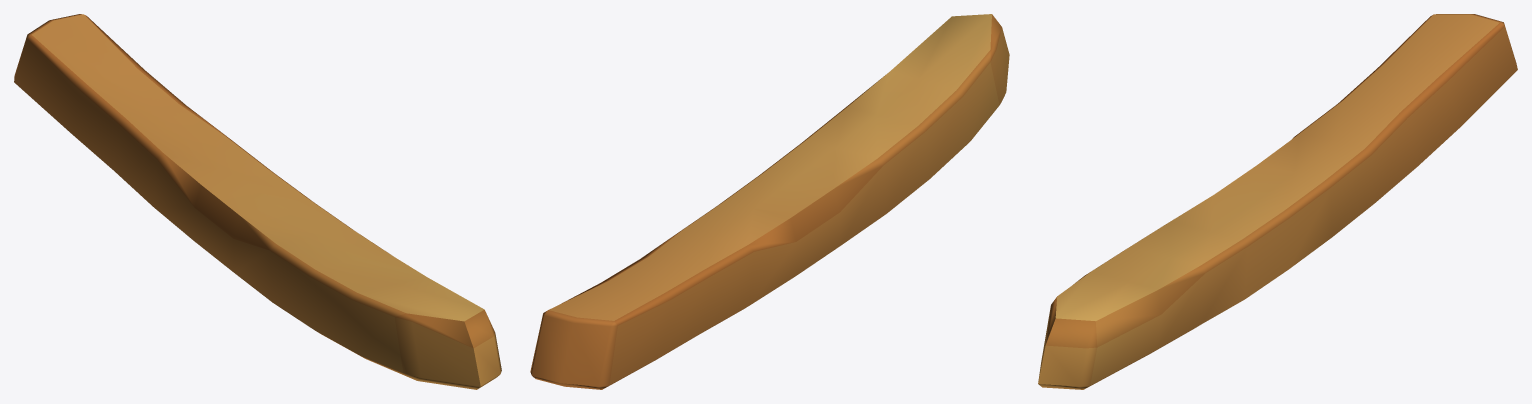
The model's file is consumables-junkfood-frenchfry_v8.glb.
3 renders of one model, left to right at view 1: azimuth 30°, elevation 25°; view 2: azimuth 150°, elevation 25°; view 3: azimuth 330°, elevation 25°, orthographic.
Visible parts, largest first — view 1: FrenchFry_v8; view 2: FrenchFry_v8; view 3: FrenchFry_v8.
Boxes of the visible parts, bbox=[...] form: FrenchFry_v8: bbox=[14, 14, 501, 389]; FrenchFry_v8: bbox=[530, 14, 1009, 389]; FrenchFry_v8: bbox=[1038, 14, 1517, 389].
Size of the model in its own units: 0.0108 by 0.0105 by 0.0983.
